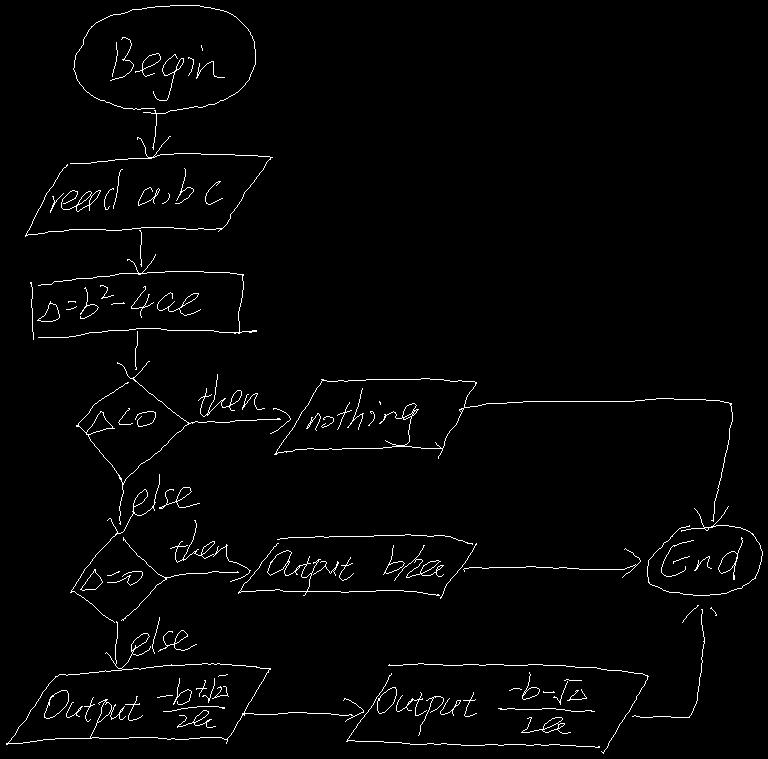arrow: (459, 398, 732, 530), (632, 605, 716, 717), (463, 548, 640, 577), (242, 698, 363, 721), (191, 408, 290, 433), (165, 562, 250, 581), (137, 110, 170, 158), (117, 331, 149, 378), (107, 477, 133, 533), (105, 621, 135, 668), (127, 230, 155, 274)
data: (346, 663, 648, 753), (6, 663, 270, 744), (25, 153, 272, 236), (274, 378, 476, 458), (238, 534, 476, 598)
decision: (76, 378, 190, 484), (70, 533, 166, 622)
process: (30, 271, 256, 339)
terminator: (73, 5, 255, 113), (647, 525, 762, 595)
text: (377, 672, 594, 735), (44, 674, 228, 737), (267, 545, 443, 595), (50, 168, 222, 212), (110, 37, 224, 100), (306, 388, 418, 445), (37, 285, 200, 321), (661, 537, 742, 579), (198, 374, 264, 416), (133, 474, 199, 515), (170, 520, 232, 562), (131, 617, 196, 655), (86, 408, 155, 434), (80, 569, 142, 590)
